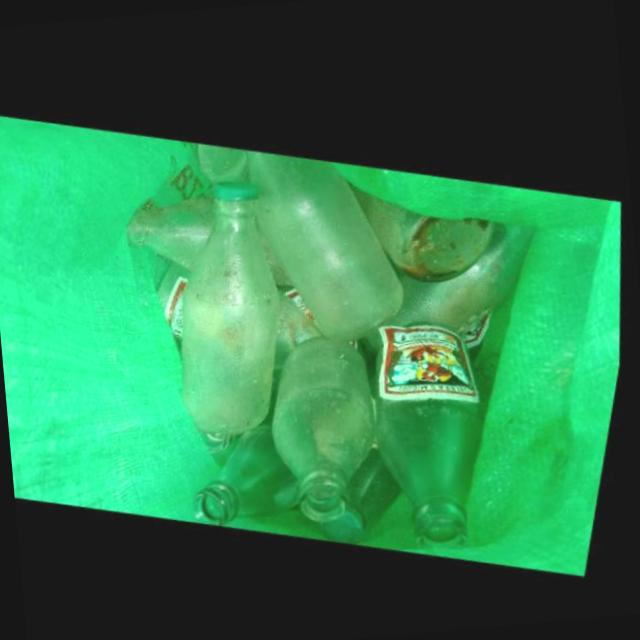chai_thuy_tinh: (248, 144, 409, 335), (381, 314, 492, 541), (186, 177, 284, 430), (279, 330, 383, 516), (389, 213, 539, 325), (350, 175, 509, 275), (203, 416, 307, 521), (131, 189, 218, 266)
